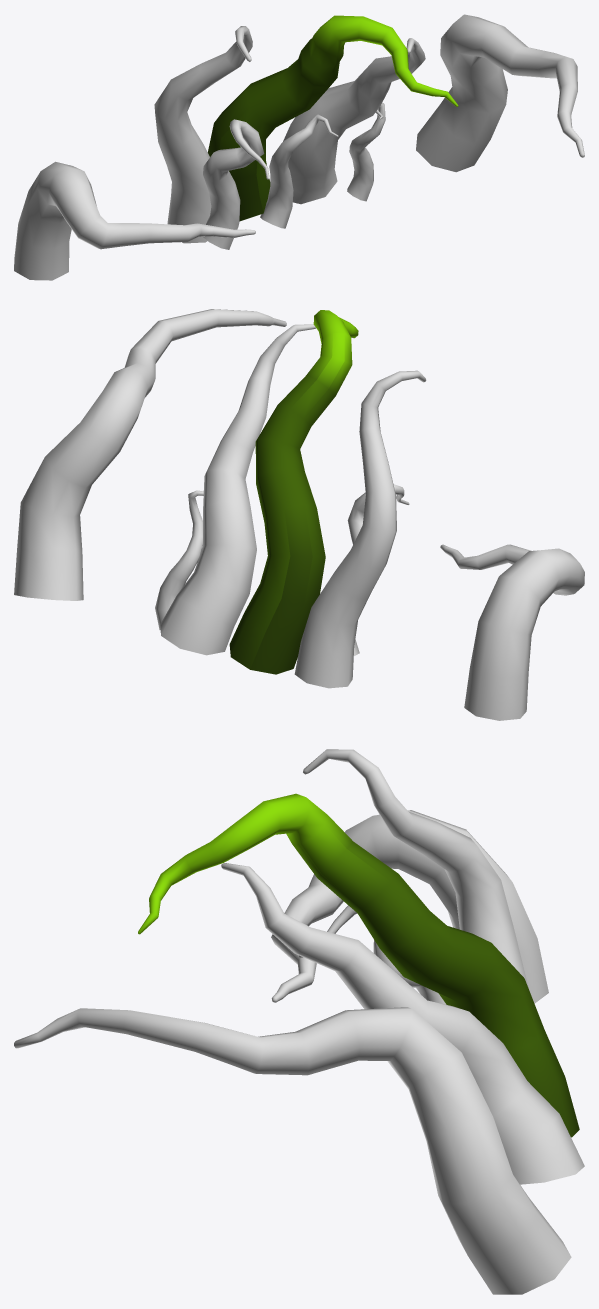
File: tentacles.fbx
3 views of the same model, one above another, from view 1: azimuth 30°, elevation 25°; view 2: azimuth 150°, elevation 25°; view 3: azimuth 270°, elevation 25° (orthographic). The views are drawn at different scales.
Visible parts, largest first — view 1: BezierCurve.002; view 2: BezierCurve.002; view 3: BezierCurve.002.
Boxes of the visible parts, box(x1,y1,x2,y2) form: BezierCurve.002: box(14, 14, 584, 280); BezierCurve.002: box(14, 309, 584, 720); BezierCurve.002: box(14, 749, 584, 1294).
Size of the model in its own units: 1599 by 833 by 1150.
